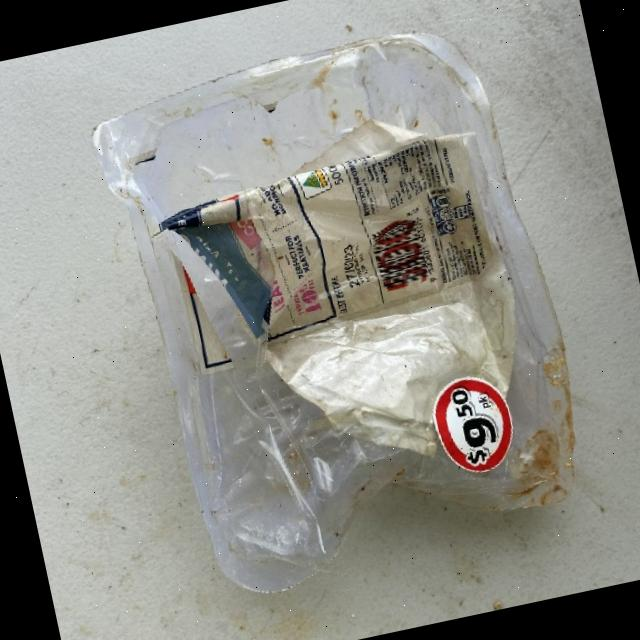plastic: (84, 12, 602, 608)
